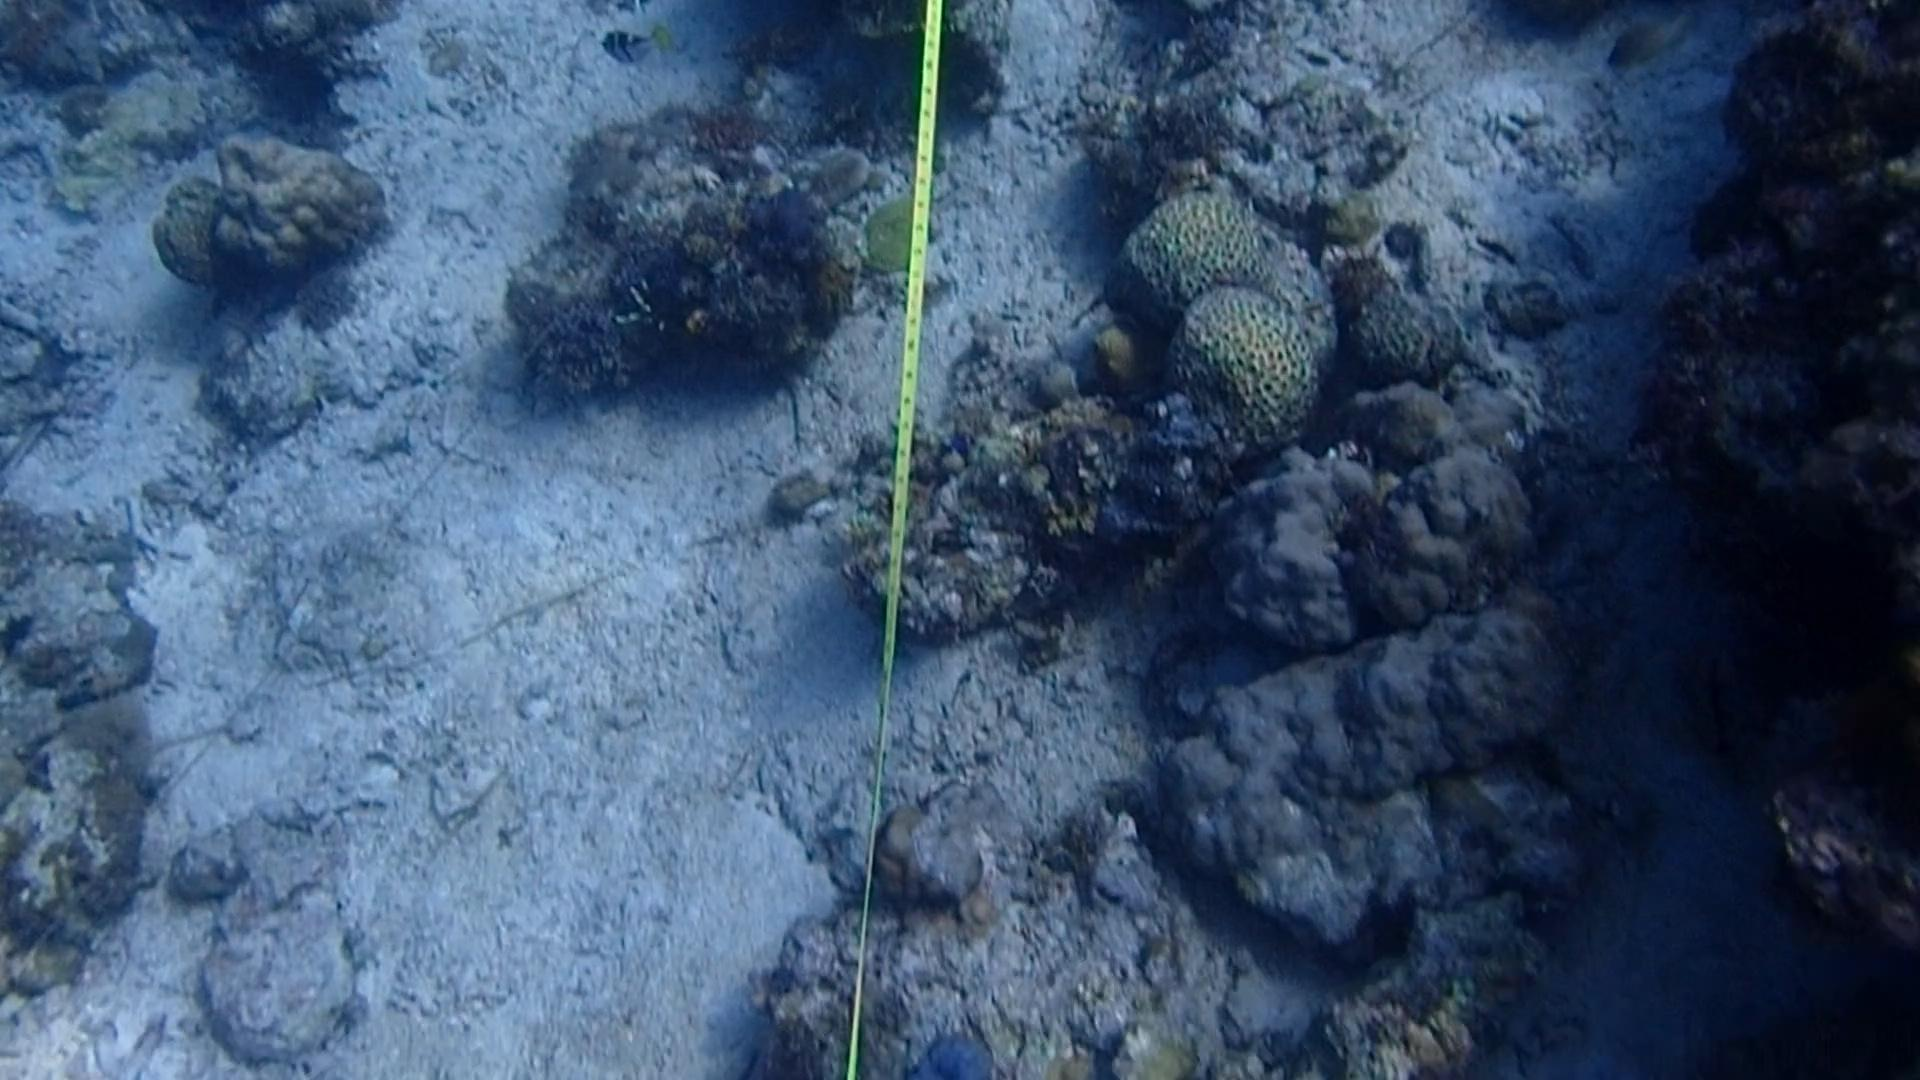Striped Fish: (589, 25, 684, 73)
